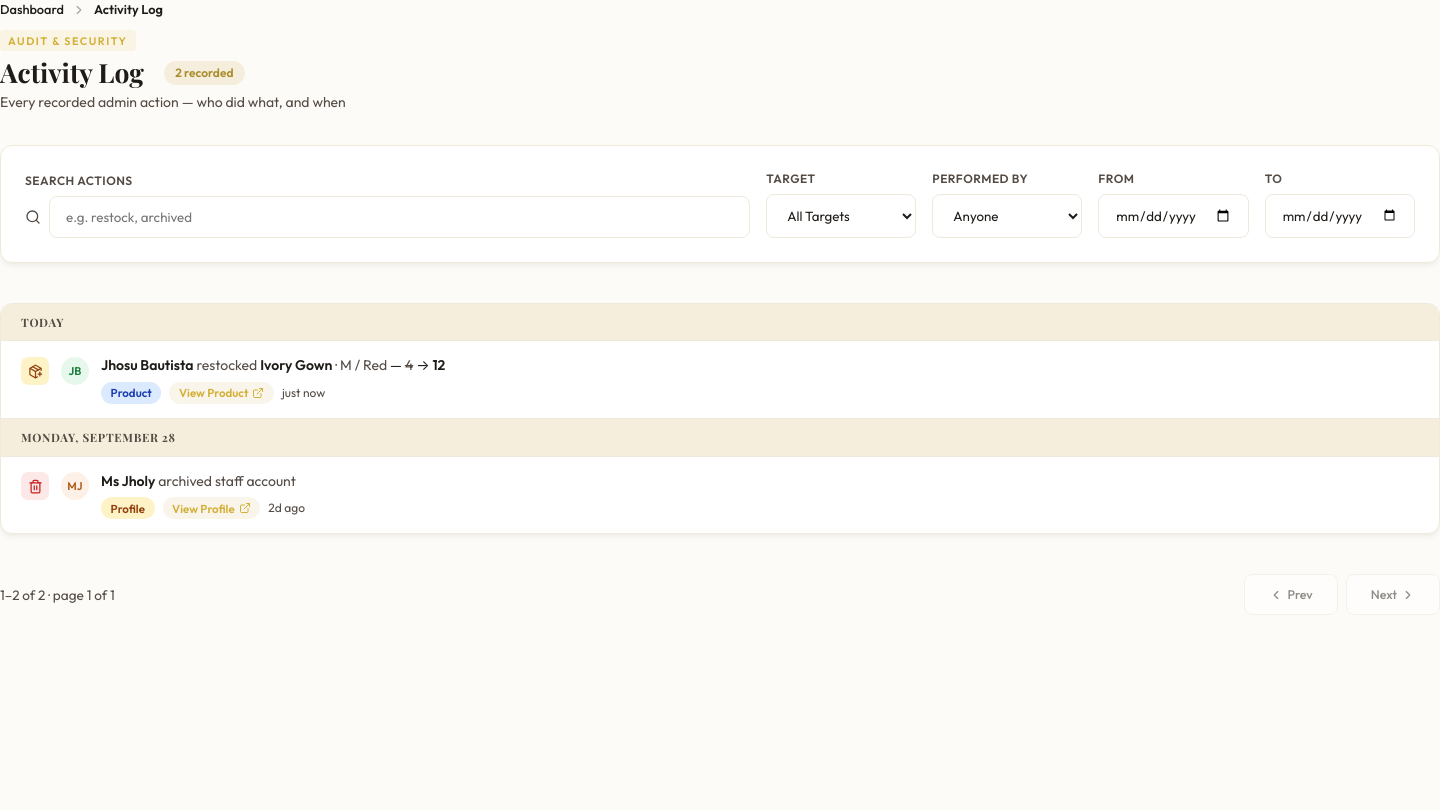
Test: ActivityLog › opens a details drawer with summary card and item details
Click the button "restocked".
click(147, 365)  # box top-left (1, 342), bottom-right (1439, 418)
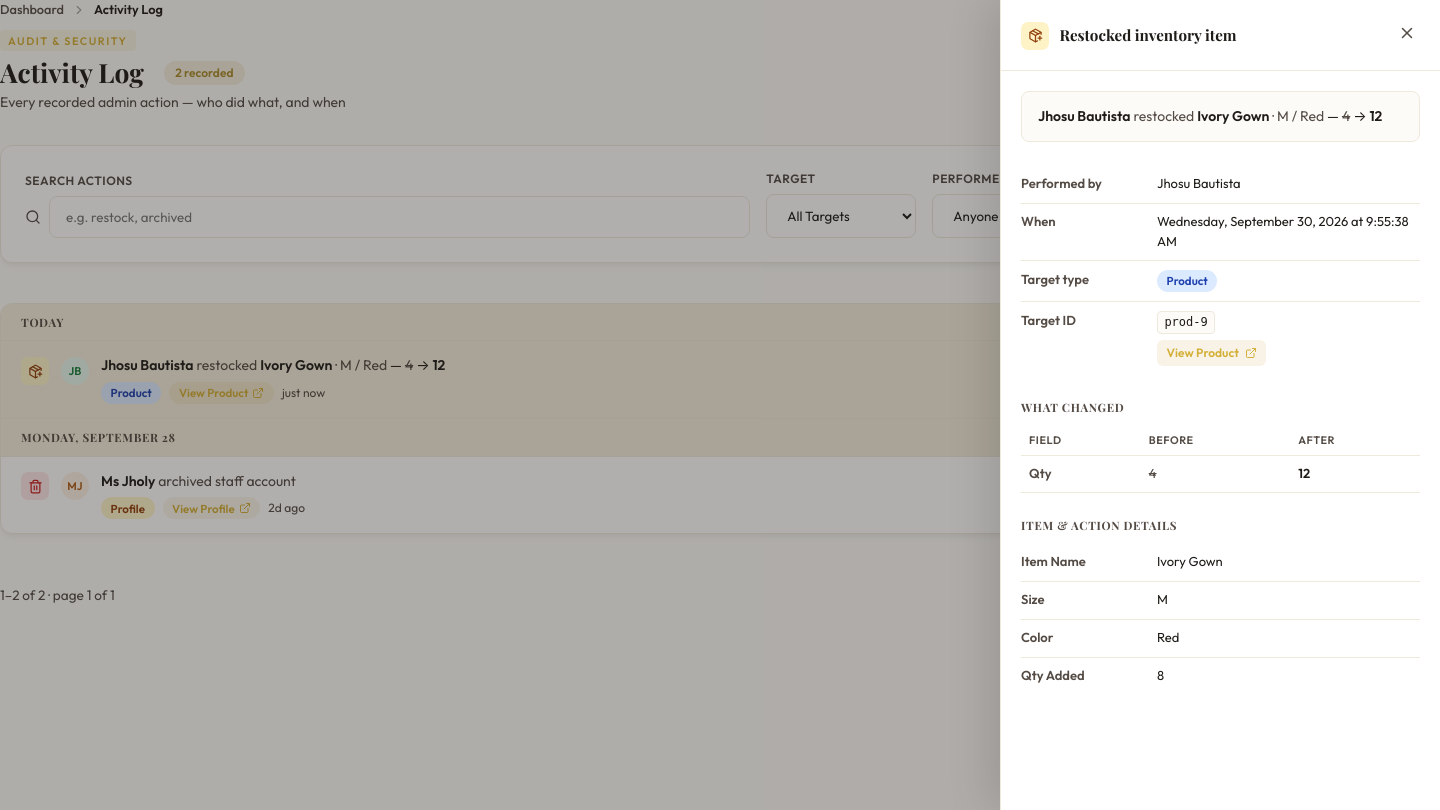
Check: the text "Performed by" is shown, box top-left (1021, 175), bottom-right (1102, 191)
Check: the text "prod-9" is shown, box top-left (1157, 311), bottom-right (1215, 334)
Check: the heading "Item & Action Details" is shown, box top-left (1021, 518), bottom-right (1177, 532)
